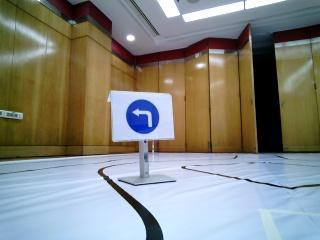left: (116, 97, 169, 137)
